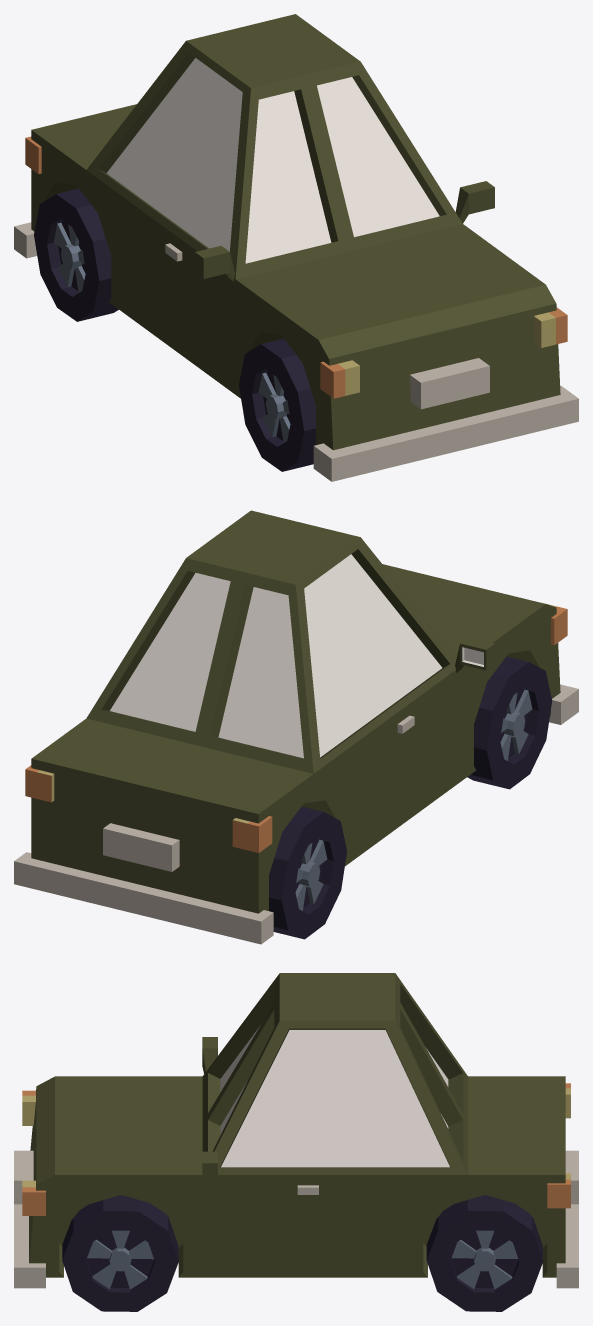
The model's file is car 3.fbx.
3 renders of one model, top to bottom at view 1: azimuth 30°, elevation 25°; view 2: azimuth 150°, elevation 25°; view 3: azimuth 270°, elevation 25°, orthographic. The views are drawn at different scales.
Parts seen in each view (by area): view 1: car 1; view 2: car 1; view 3: car 1.
Boxes of the visible parts, left/top/right/bottom form: car 1: left=14, top=14, right=578, bottom=481; car 1: left=14, top=510, right=578, bottom=944; car 1: left=14, top=973, right=578, bottom=1311.
Bounding box in the file's own units: 180 × 174 × 340.
